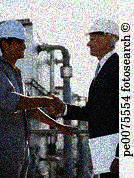helmet: (83, 17, 120, 56), (1, 20, 29, 59)
